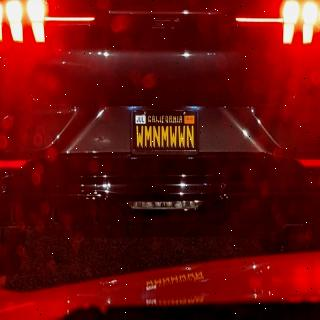license: (131, 109, 201, 158)
